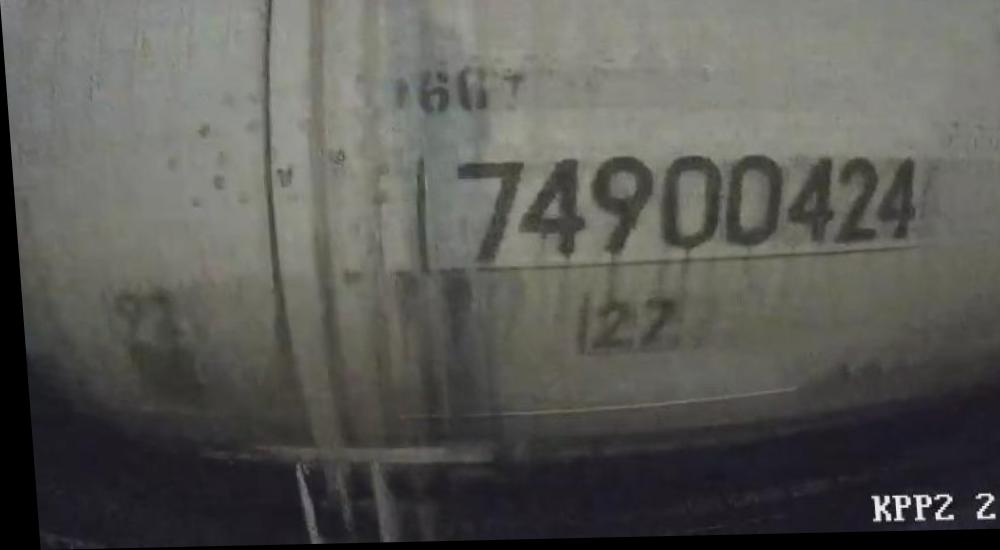Wagon-number: (446, 147, 922, 269)
